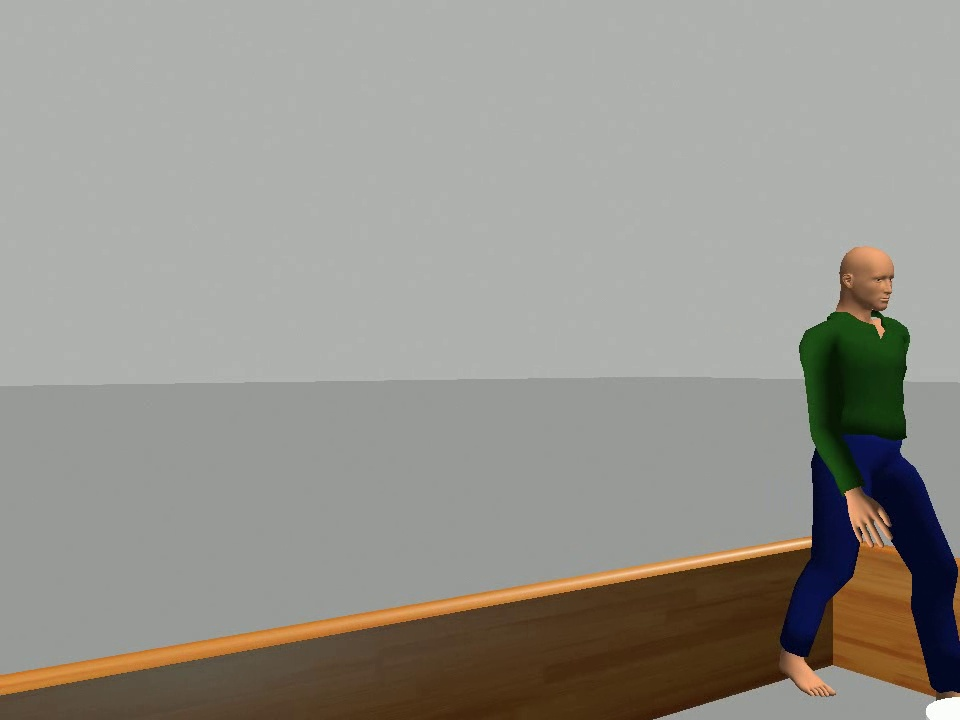person: (776, 243, 960, 703)
